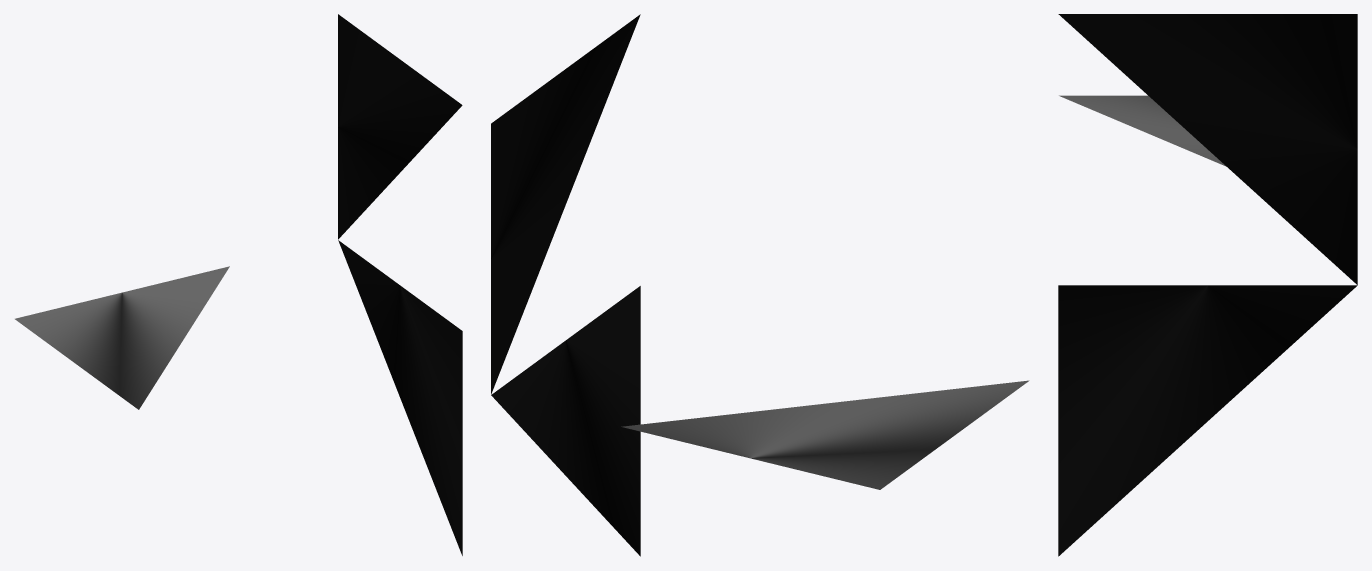
File: muzzle-flash-named-nodes.gltf
3 renders of one model, left to right at view 1: azimuth 30°, elevation 25°; view 2: azimuth 150°, elevation 25°; view 3: azimuth 270°, elevation 25°, orthographic. The views are drawn at different scales.
Visible parts, largest first — view 1: plane (×3); view 2: plane (×3); view 3: plane (×3).
Boxes of the visible parts, x1=… form: plane (×3): x1=15, y1=14, x2=462, y2=555; plane (×3): x1=491, y1=14, x2=1029, y2=556; plane (×3): x1=1058, y1=14, x2=1357, y2=556.
Bounding box in the file's own units: 1.5 × 2 × 1.
